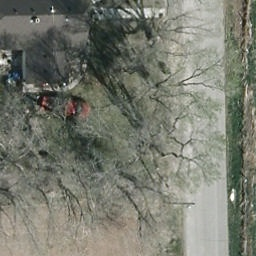car: (38, 94, 92, 118)
